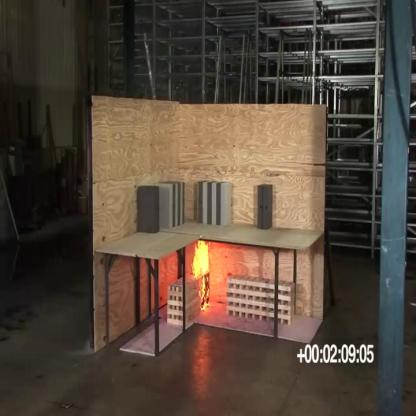fire: (191, 240, 212, 314)
